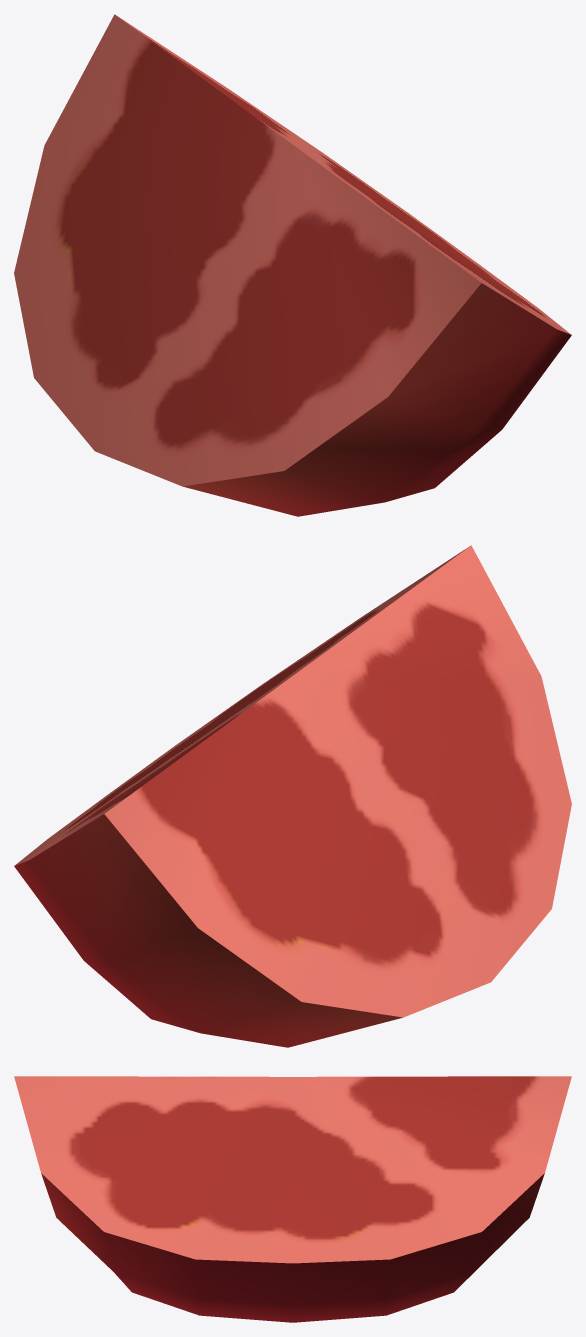
Rendered from Tomato_Slice_02.glb.
The picture shows the model from 3 angles, top to bottom: view 1: azimuth 30°, elevation 25°; view 2: azimuth 150°, elevation 25°; view 3: azimuth 270°, elevation 25°; orthographic projection. The views are drawn at different scales.
Visible parts, largest first — view 1: Tomato_Slice_02; view 2: Tomato_Slice_02; view 3: Tomato_Slice_02.
Part boxes in pixels (x1,y1,x2,y2): Tomato_Slice_02: [14, 14, 571, 516]; Tomato_Slice_02: [14, 545, 571, 1047]; Tomato_Slice_02: [14, 1076, 571, 1322].
Bounding box in the file's own units: 0.1612 × 0.1273 × 0.2676.
1 material, 1 textured.
